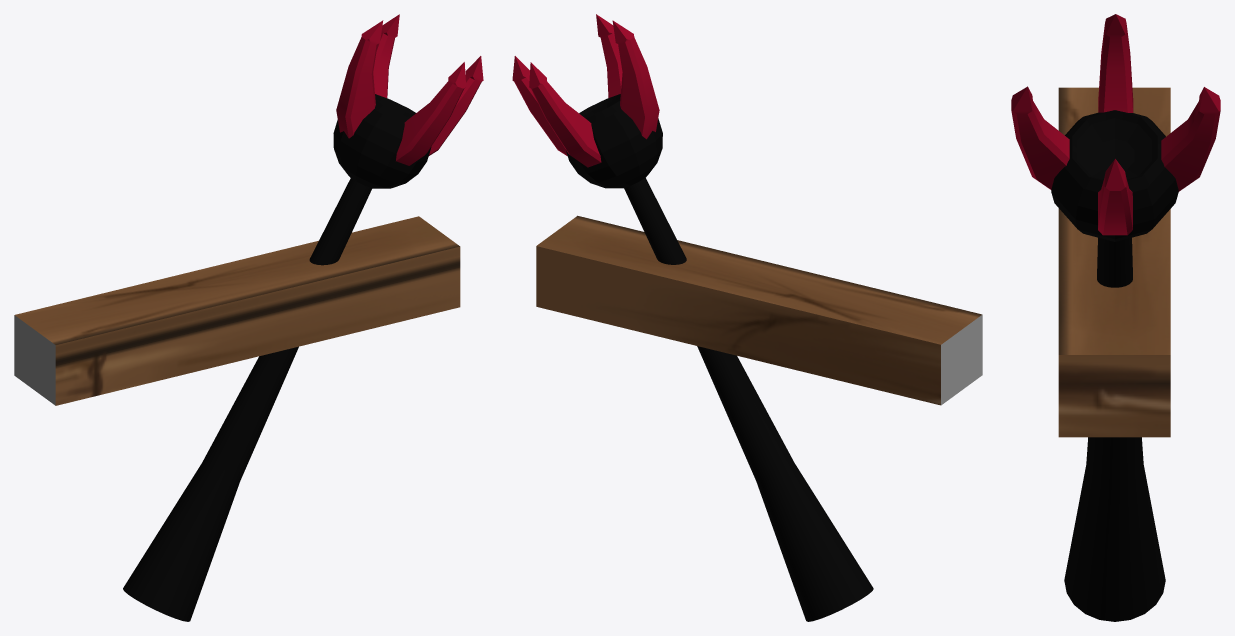
File: Fire_Spike.fbx
3 views of the same model, side by side, from view 1: azimuth 30°, elevation 25°; view 2: azimuth 150°, elevation 25°; view 3: azimuth 270°, elevation 25° (orthographic). The views are drawn at different scales.
Visible parts, largest first — view 1: Fire_Spike; view 2: Fire_Spike; view 3: Fire_Spike.
Part boxes in pixels (x1,y1,x2,y2): Fire_Spike: (14, 14, 483, 621); Fire_Spike: (512, 14, 982, 621); Fire_Spike: (1011, 14, 1220, 621).
Size of the model in its own units: 1.87 by 2.19 by 0.5625.
